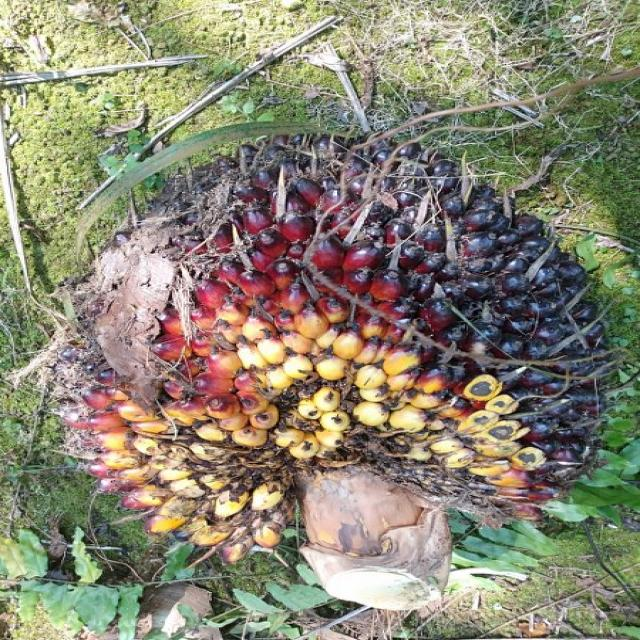fraksi 00: (34, 97, 640, 606)
